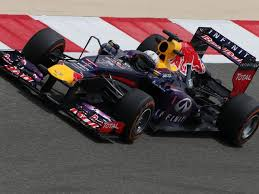f1_car: (1, 17, 259, 158)
